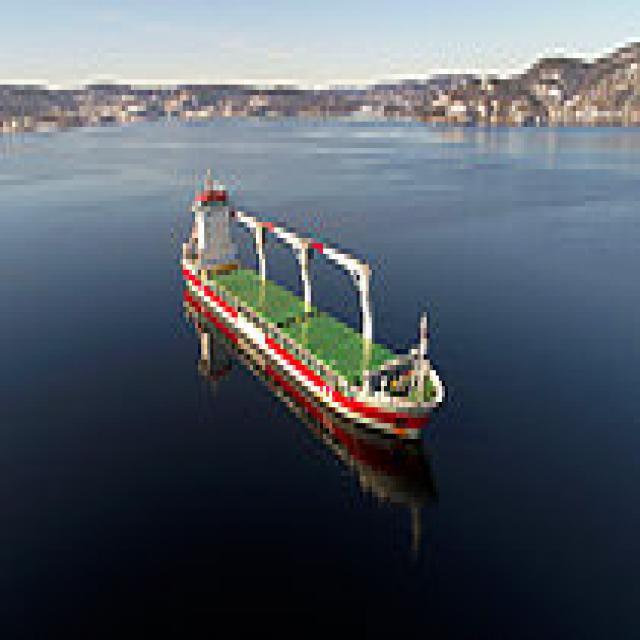Ship: (166, 144, 456, 456)
